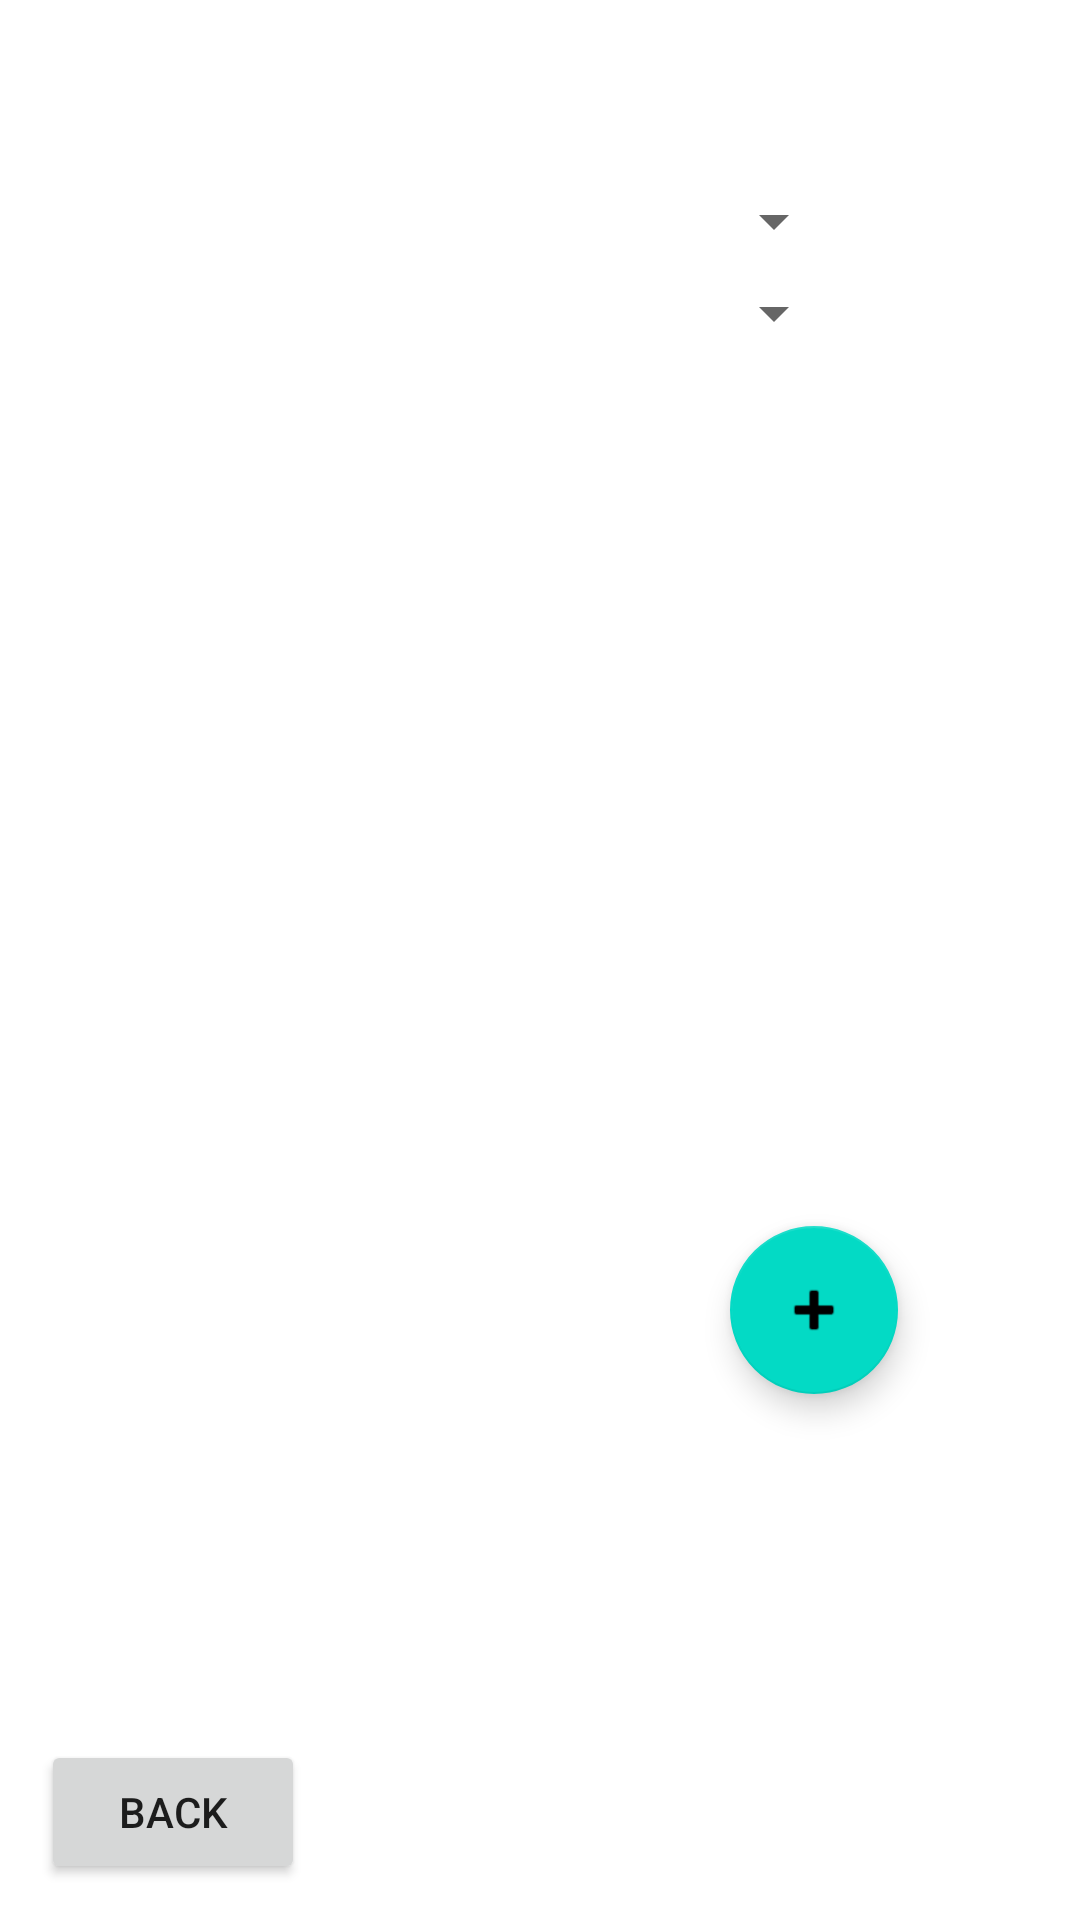

Icons on this 1080w x 1920h Android screen, each with the point to tap as (x,y):
add: (814,1310)
